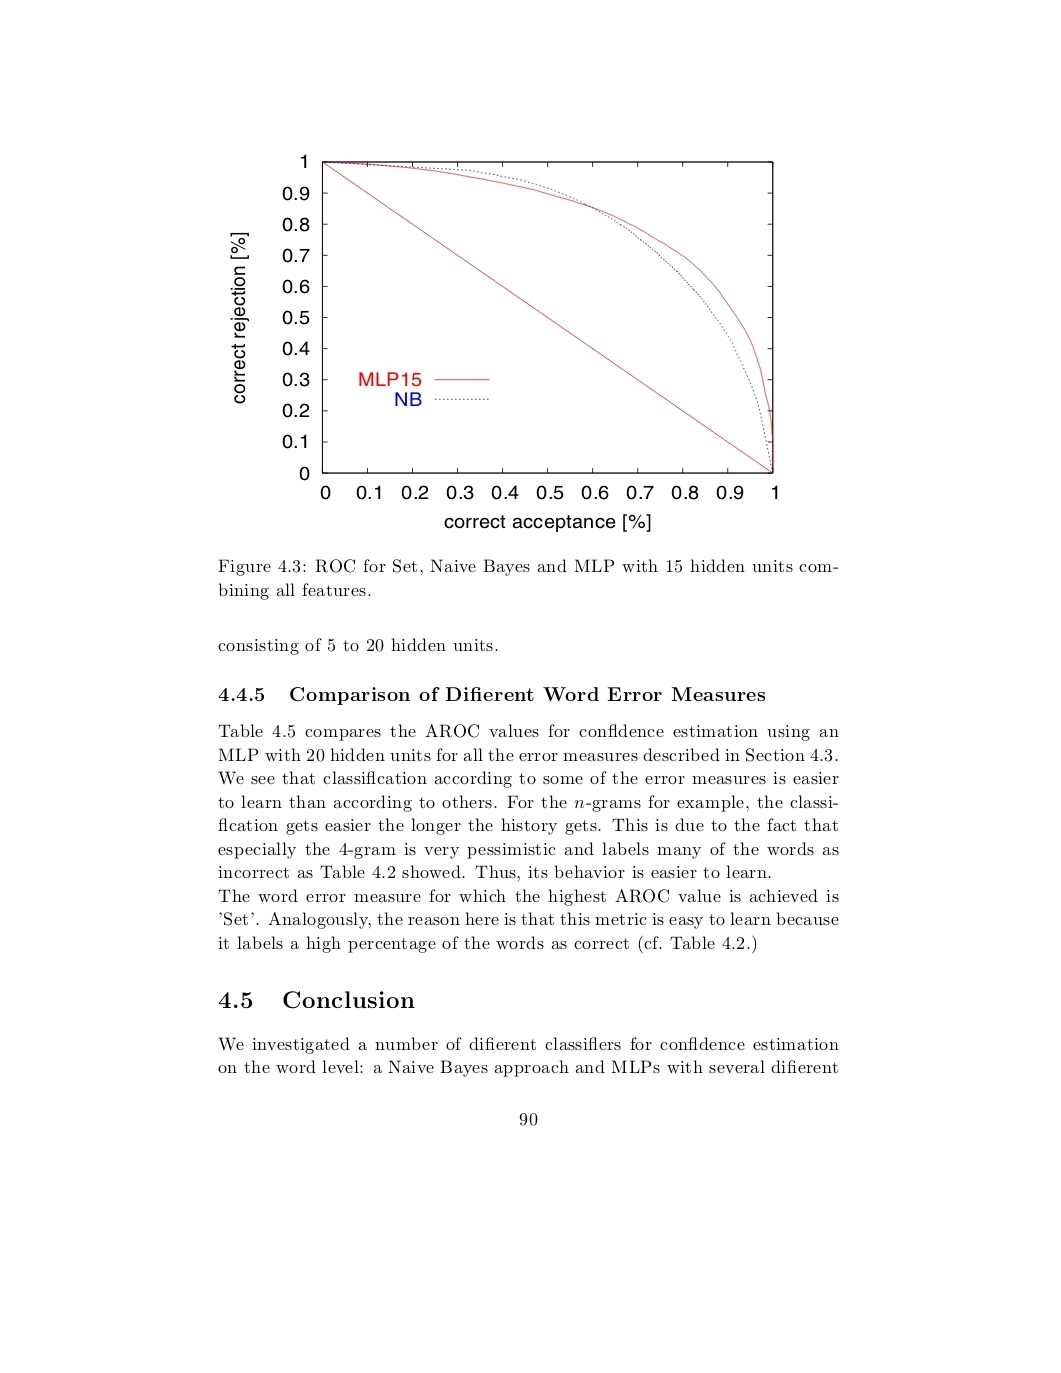figure: (230, 154, 777, 530)
